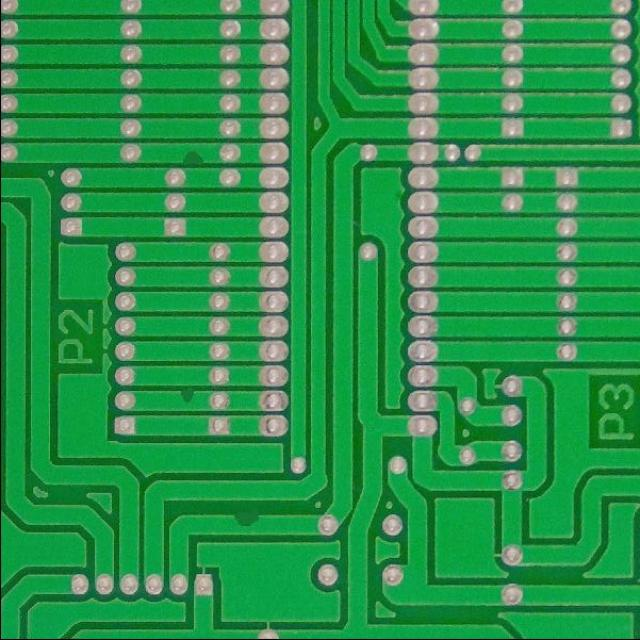mouse_bite: (225, 507, 266, 534), (178, 147, 204, 170), (173, 383, 199, 405)
